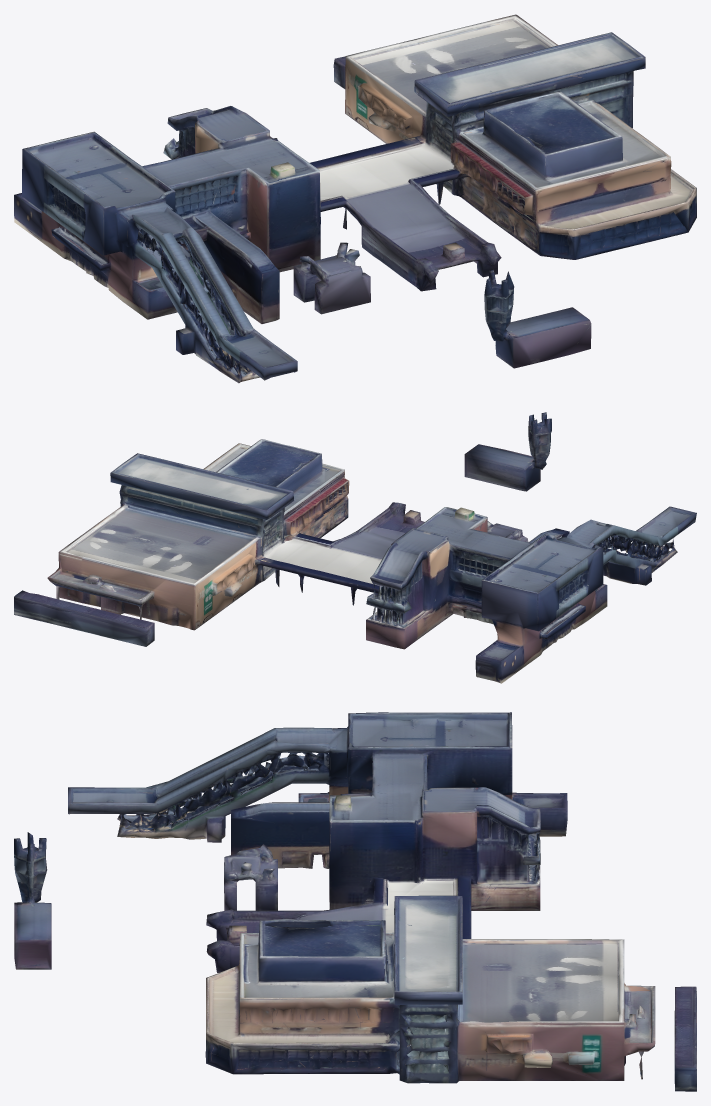
The model's file is Meshy_AI_Oshawa_Station_Aerial_0313181128_texture.fbx.
3 renders of one model, top to bottom at view 1: azimuth 30°, elevation 25°; view 2: azimuth 150°, elevation 25°; view 3: azimuth 270°, elevation 25°, orthographic. The views are drawn at different scales.
Parts seen in each view (by area): view 1: Mesh1.0; view 2: Mesh1.0; view 3: Mesh1.0.
Boxes of the visible parts, box(x1,y1,x2,y2) form: Mesh1.0: box(14, 14, 696, 383); Mesh1.0: box(14, 412, 696, 683); Mesh1.0: box(14, 712, 696, 1091).
Size of the model in its own units: 5747 by 1000 by 5914.
Materials: 1 (1 with a texture image).
